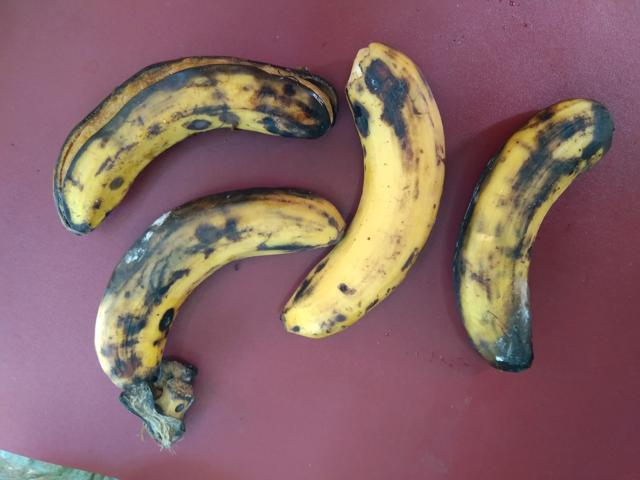overripe: (252, 24, 452, 362)
rotten: (428, 88, 620, 399), (77, 188, 348, 397), (32, 45, 330, 227)
